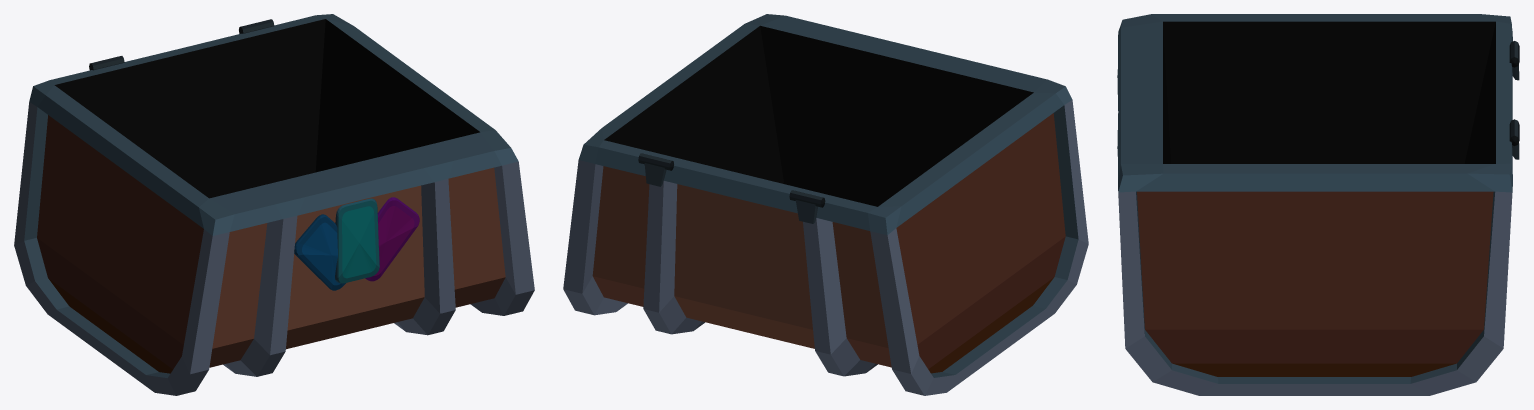
Rendered from ChestBottom.fbx.
3 renders of one model, left to right at view 1: azimuth 30°, elevation 25°; view 2: azimuth 150°, elevation 25°; view 3: azimuth 270°, elevation 25°, orthographic. The views are drawn at different scales.
Visible parts, largest first — view 1: ChestBottom; view 2: ChestBottom; view 3: ChestBottom.
Part boxes in pixels (box(x1,y1,x2,y2)): ChestBottom: box(14, 14, 534, 395); ChestBottom: box(563, 14, 1088, 395); ChestBottom: box(1117, 14, 1519, 395).
Size of the model in its own units: 84.77 by 47.21 by 79.2.
